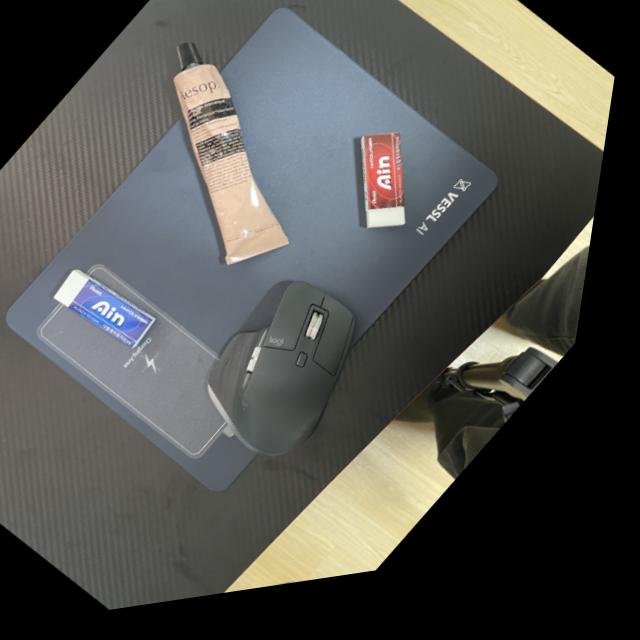blue: (44, 245, 187, 380)
red: (307, 111, 473, 273)
